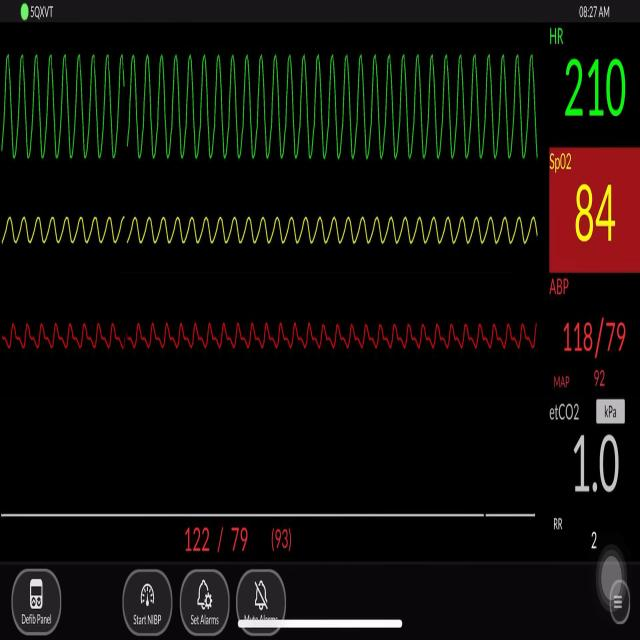danger: (73, 40, 445, 184)
